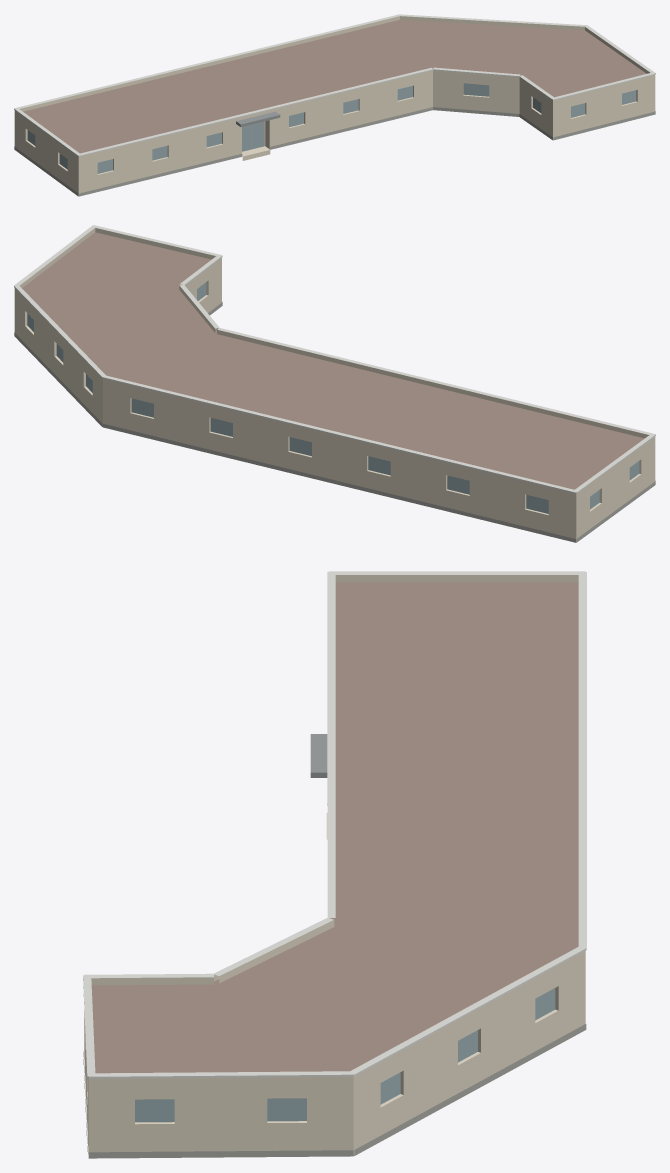
3 views of the same model, one above another, from view 1: azimuth 30°, elevation 25°; view 2: azimuth 150°, elevation 25°; view 3: azimuth 270°, elevation 25° (orthographic). The views are drawn at different scales.
Visible parts, largest first — view 1: b115951823__roof, b115951823__wall, b115951823__parapet, b115951823__trim, b115951823__glass, b115951823__base, b115951823__canopy; view 2: b115951823__roof, b115951823__wall, b115951823__trim, b115951823__parapet, b115951823__base, b115951823__glass; view 3: b115951823__roof, b115951823__wall, b115951823__trim, b115951823__parapet, b115951823__base, b115951823__glass.
Boxes of the visible parts, x1=… form: b115951823__roof: x1=23, y1=19, x2=646, y2=153; b115951823__wall: x1=14, y1=72, x2=655, y2=196; b115951823__parapet: x1=14, y1=16, x2=655, y2=158; b115951823__trim: x1=14, y1=14, x2=655, y2=156; b115951823__glass: x1=27, y1=83, x2=636, y2=173; b115951823__base: x1=14, y1=107, x2=655, y2=196; b115951823__canopy: x1=236, y1=111, x2=280, y2=126; b115951823__roof: x1=22, y1=232, x2=644, y2=542; b115951823__wall: x1=14, y1=260, x2=655, y2=542; b115951823__trim: x1=14, y1=225, x2=655, y2=493; b115951823__parapet: x1=14, y1=228, x2=655, y2=496; b115951823__base: x1=14, y1=302, x2=655, y2=542; b115951823__glass: x1=27, y1=282, x2=639, y2=513; b115951823__roof: x1=85, y1=582, x2=578, y2=1158; b115951823__wall: x1=84, y1=955, x2=585, y2=1155; b115951823__trim: x1=83, y1=571, x2=586, y2=1078; b115951823__parapet: x1=88, y1=575, x2=585, y2=1083; b115951823__base: x1=83, y1=1024, x2=586, y2=1158; b115951823__glass: x1=135, y1=988, x2=555, y2=1122.
Size of the model in its own units: 52.26 by 4.35 by 22.02.
